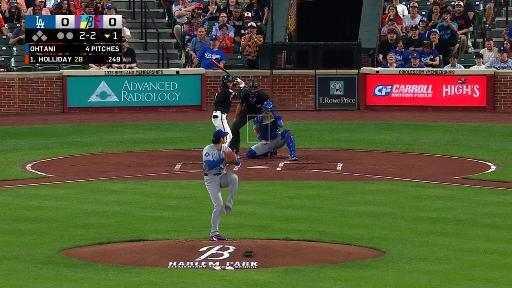pitcher: (203, 129, 249, 242)
